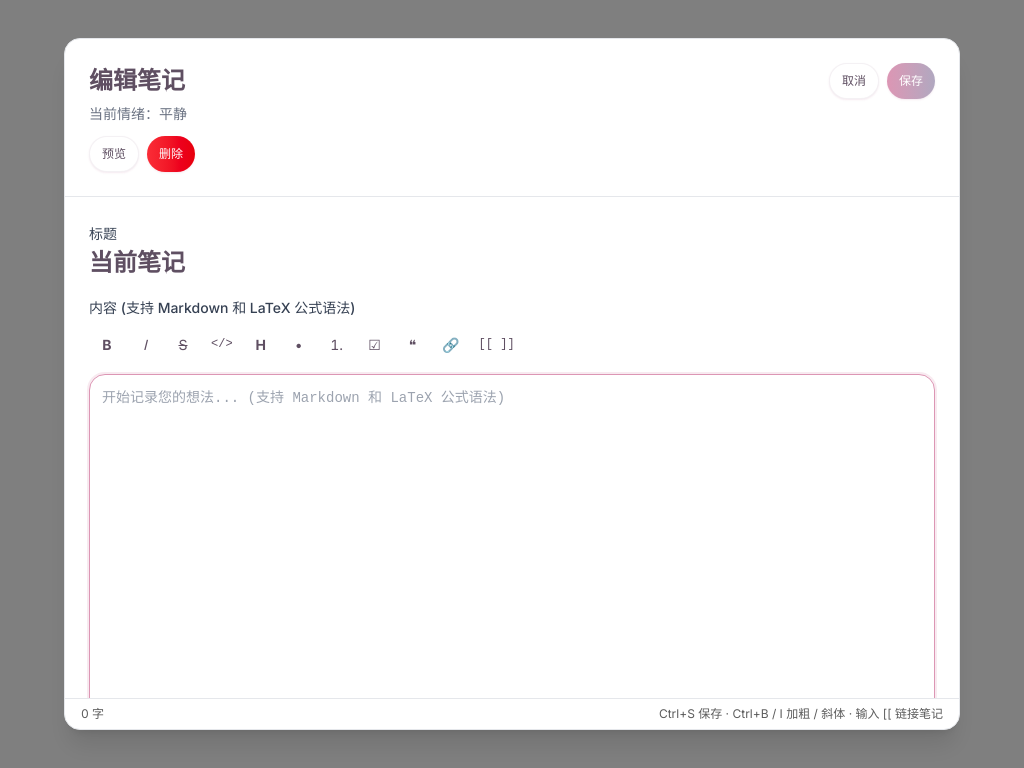
it: [ [ 双链补全 › 工具栏的 [ [ ]] 按钮：光标落在中间并弹出补全
The width and height of the screenshot is (1024, 768).
What coordinates should you click on to do the following:
click the button named "链接到其他笔记"
I would click on:
 (497, 344)
Its box is 471,326 -> 523,362.
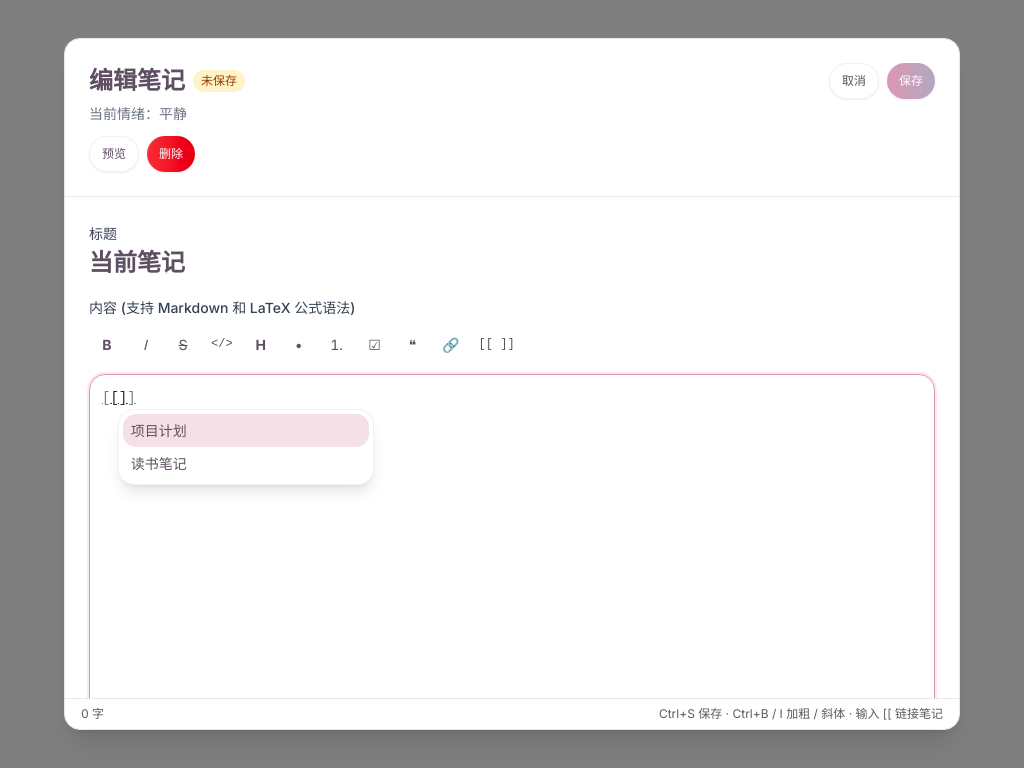
Result: the list is shown at 118,409 -> 374,485
